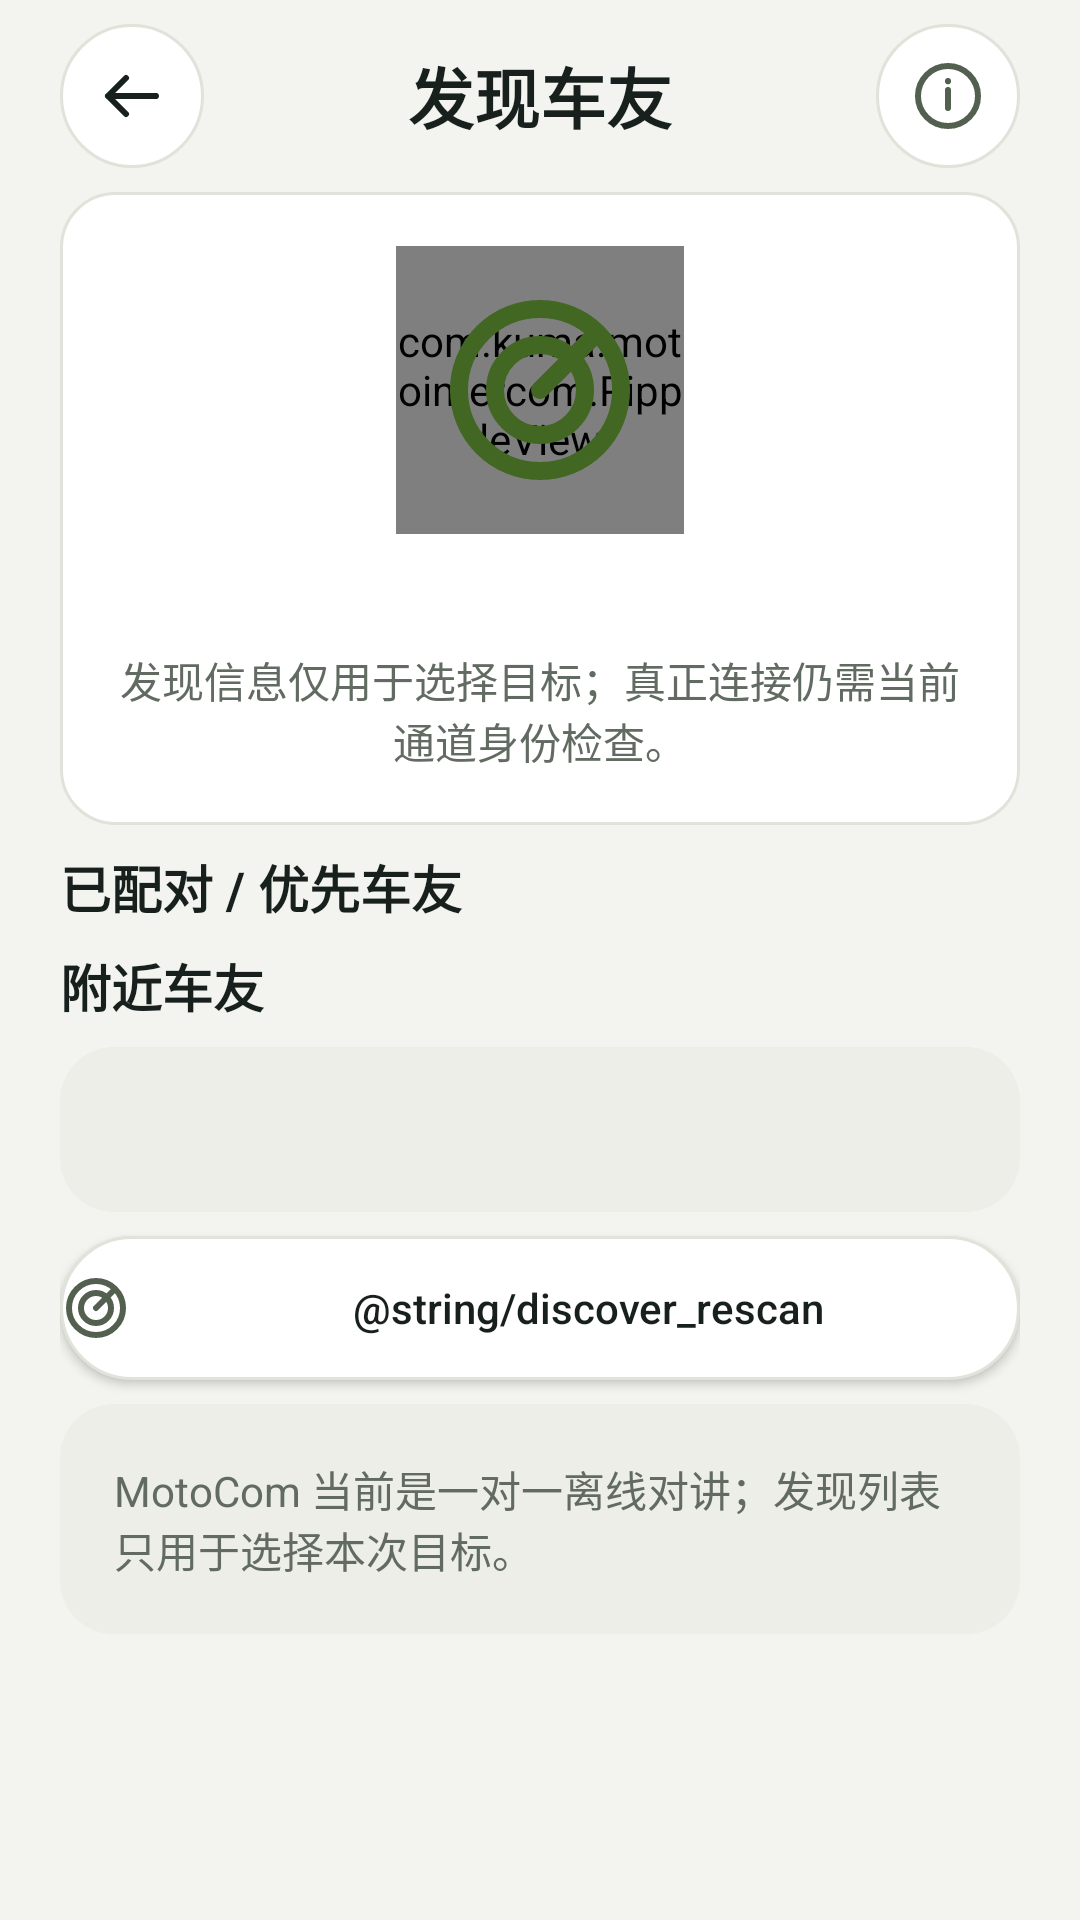

Icon click points for this 1080px x 1920px phone screenshot, format (x,y):
info: (948,96)
